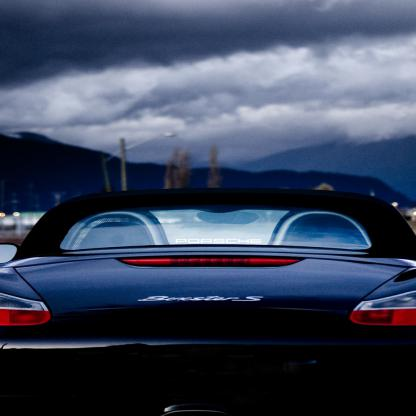Car: (0, 186, 416, 416)
